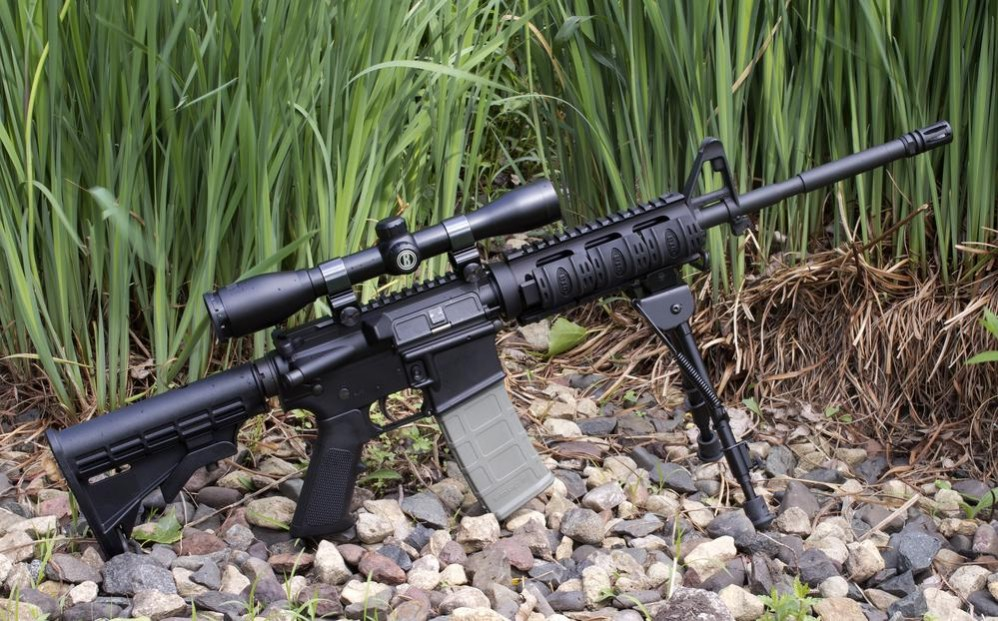Rifle: (50, 119, 958, 582)
